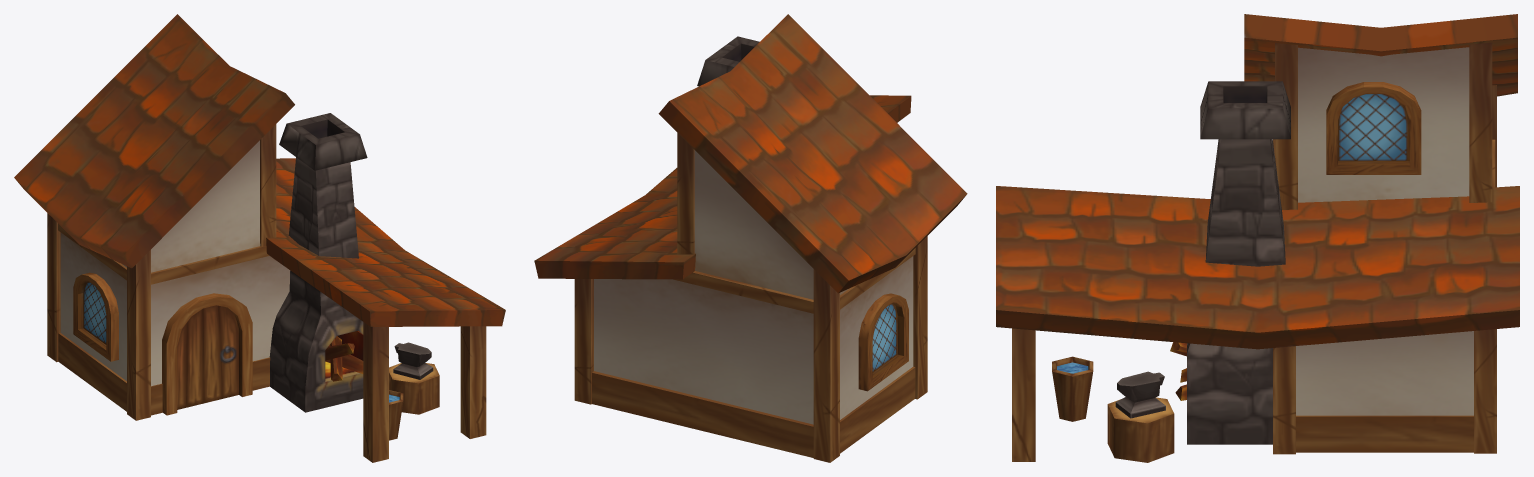
The model's file is Fantasy_House_4.FBX.
The picture shows the model from 3 angles, left to right: view 1: azimuth 30°, elevation 25°; view 2: azimuth 150°, elevation 25°; view 3: azimuth 270°, elevation 25°; orthographic projection. The views are drawn at different scales.
Visible parts, largest first — view 1: Fantasy_House_4; view 2: Fantasy_House_4; view 3: Fantasy_House_4.
Part boxes in pixels (<box>): Fantasy_House_4: <box>14,14,505,462</box>; Fantasy_House_4: <box>534,14,967,462</box>; Fantasy_House_4: <box>996,14,1519,462</box>.
Size of the model in its own units: 5.96 by 5.97 by 7.42.
